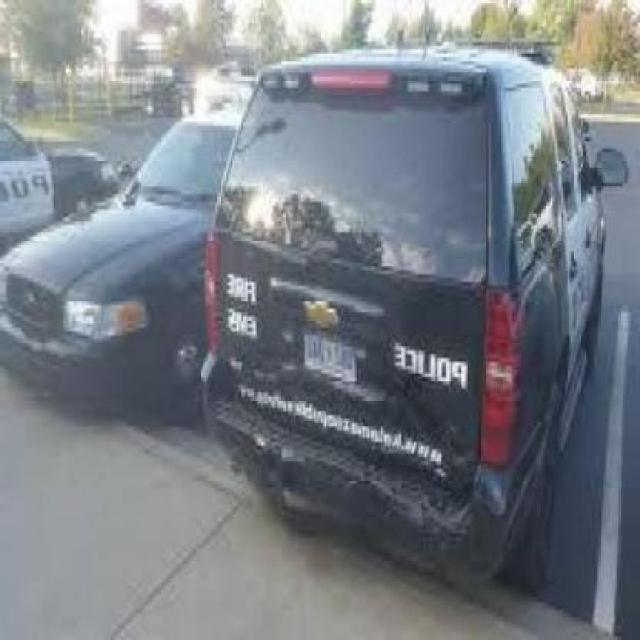damage: (354, 385, 470, 556)
